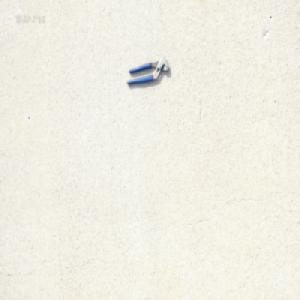Pliers: (126, 56, 170, 86)
